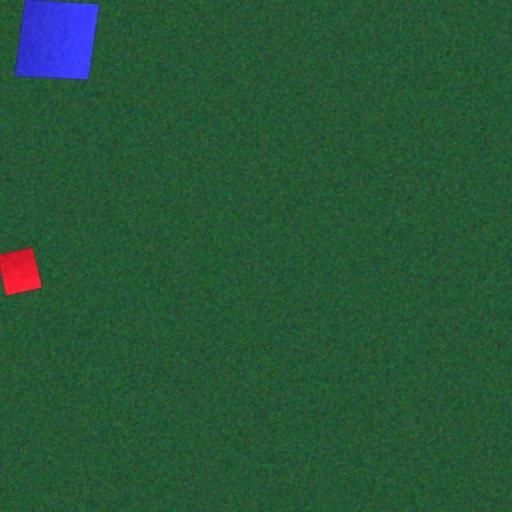BLUE_SQUARE: (14, 0, 100, 81)
RED_SQUARE: (0, 246, 43, 296)
